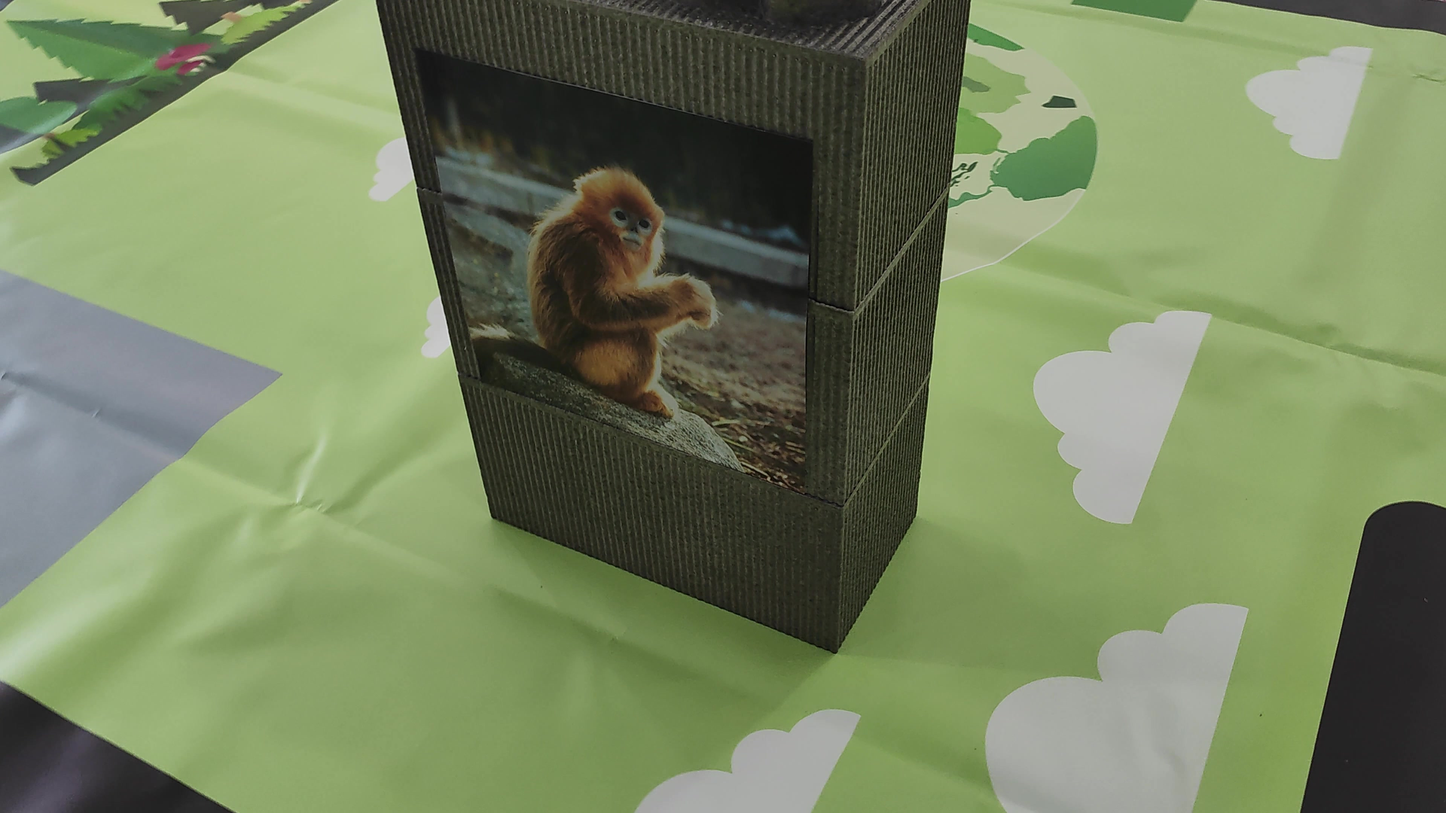monkey: (493, 134, 767, 414)
